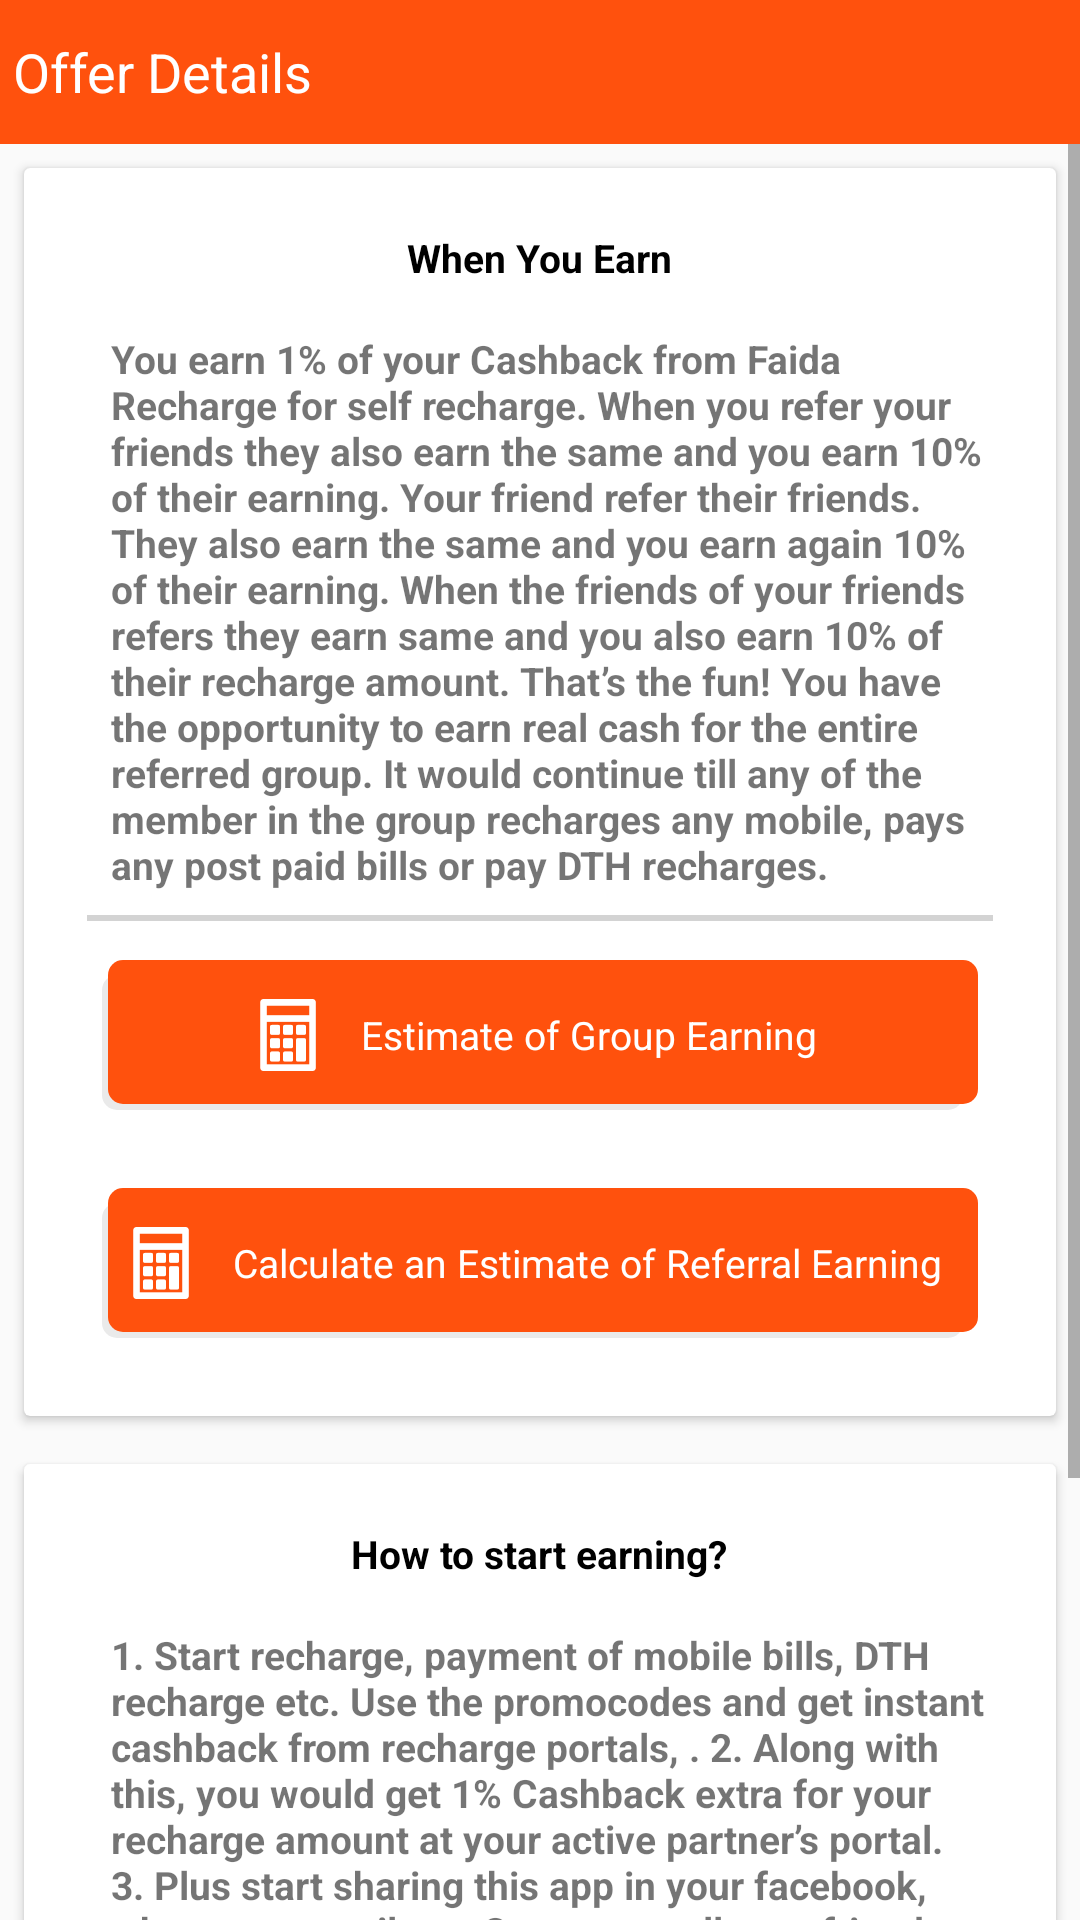

Where icons sit on this 1080x1920 app screen, as (x1, y1, x2, y2):
calculator: (260, 999, 316, 1071), (133, 1227, 189, 1299)
